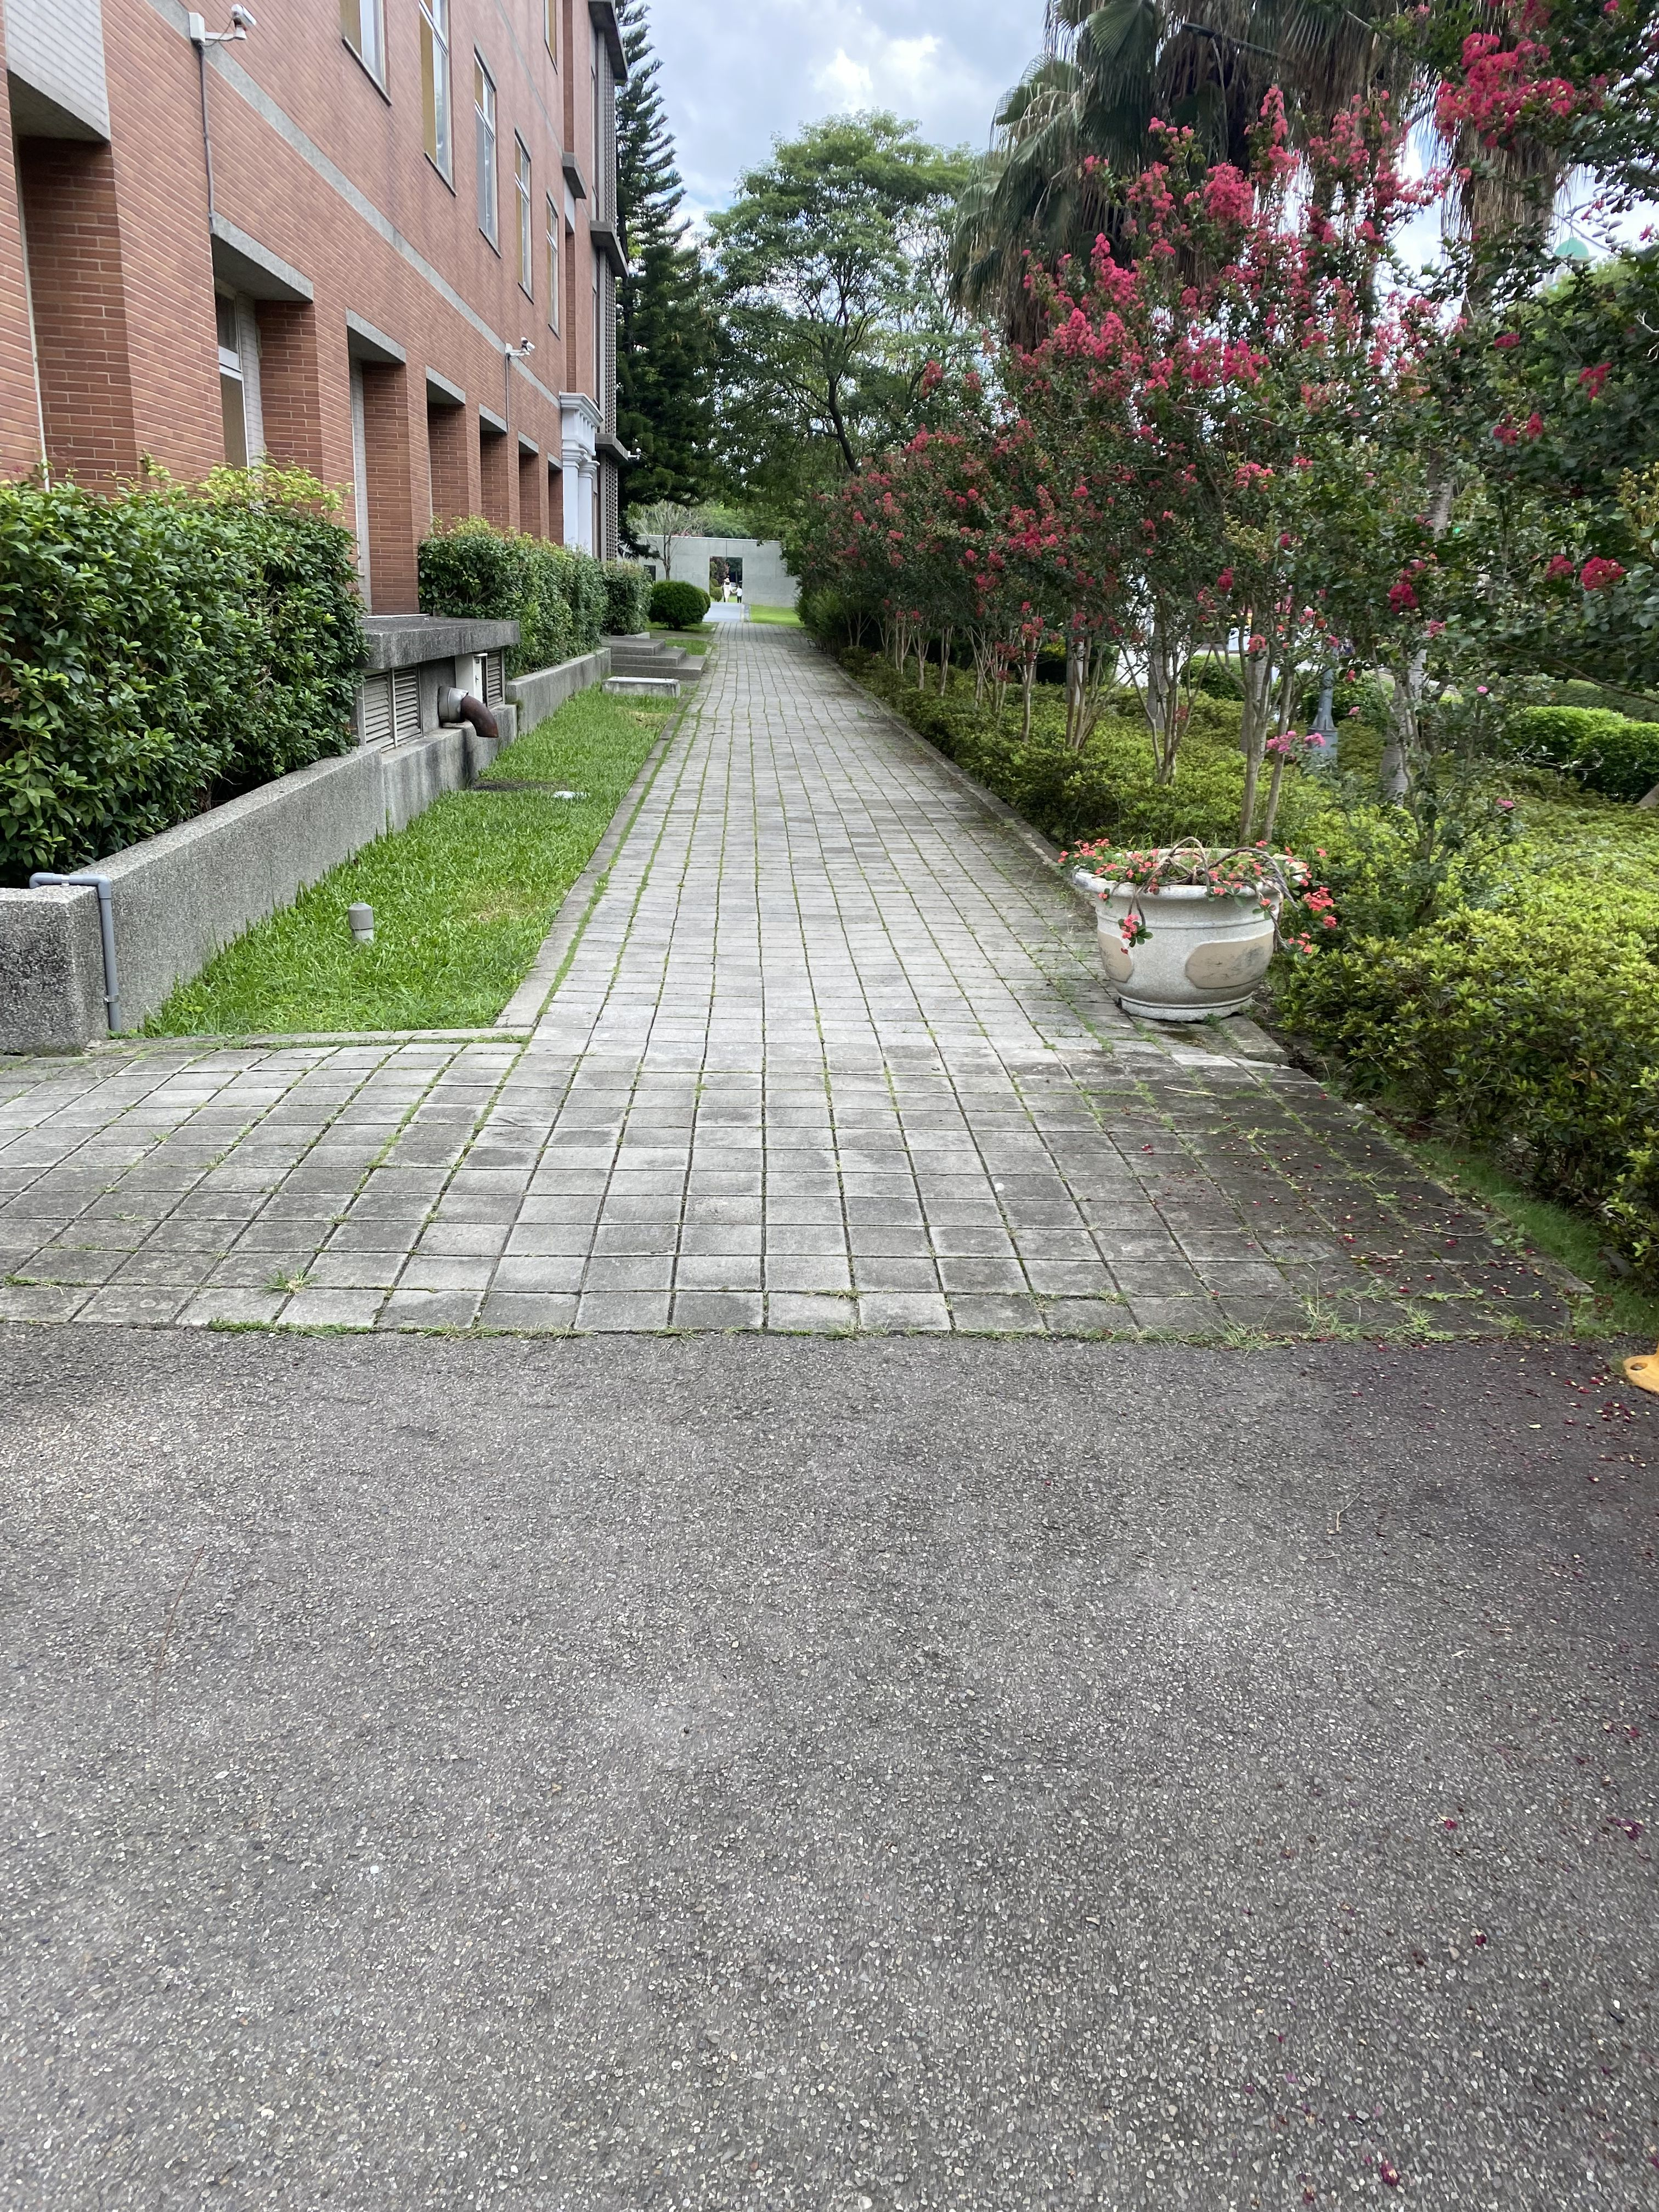0: (315, 1318, 1516, 2212)
sidewalk: (491, 563, 1511, 1559)
